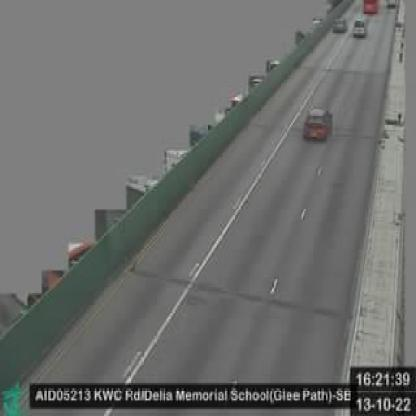Car: (302, 103, 332, 141), (353, 14, 369, 37), (334, 14, 349, 34)
